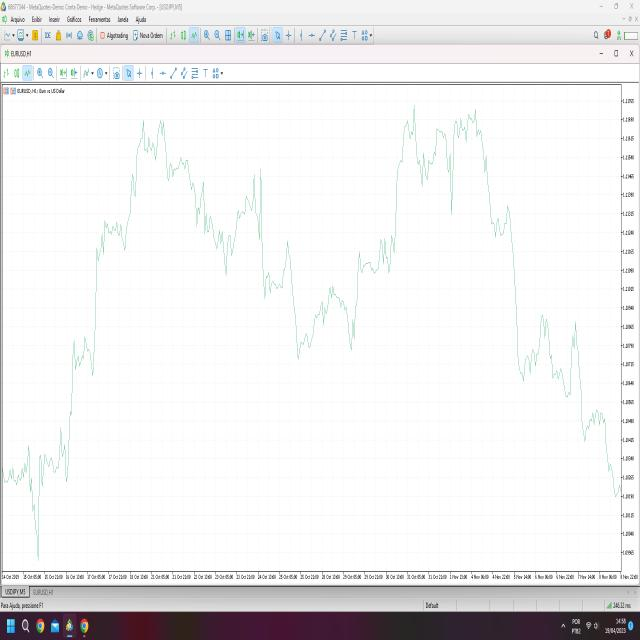bandeira_alta: (349, 204, 397, 360), (90, 192, 125, 384), (32, 424, 70, 566), (64, 323, 96, 480)
bandeira_baixa: (503, 195, 540, 387), (572, 312, 609, 446), (476, 114, 513, 246), (258, 160, 289, 307)
fundo_duplo: (278, 225, 371, 374)
oco_inv: (206, 208, 246, 283)
topo_duplo: (118, 106, 178, 195)
